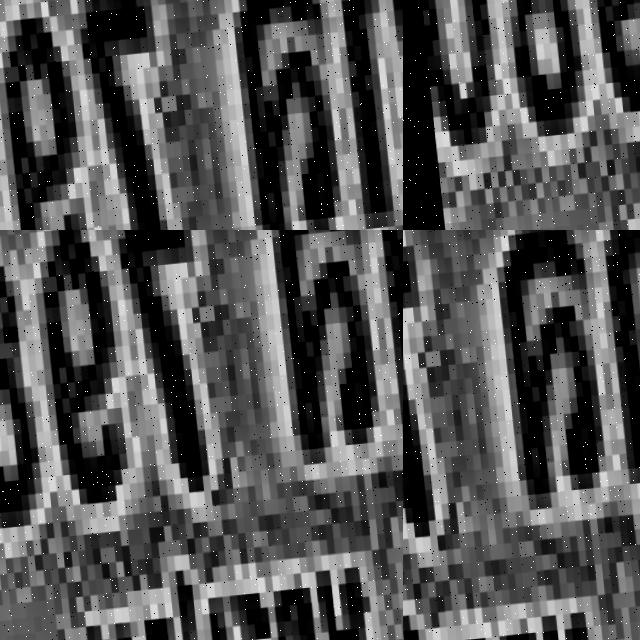license-plate: (0, 230, 403, 640), (403, 230, 640, 640), (0, 0, 403, 230), (447, 0, 640, 230)
